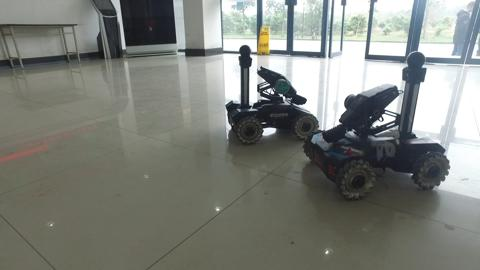chariot: (301, 49, 459, 200), (219, 44, 320, 142)
